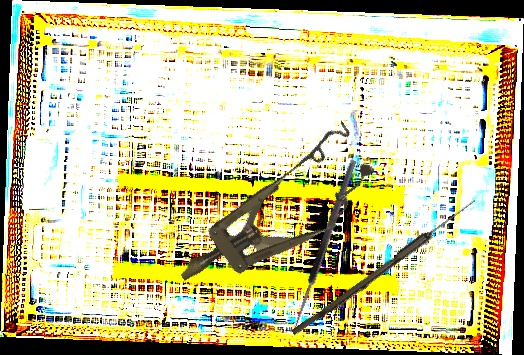Hook Surgical: (289, 158, 366, 338)
Speculum: (157, 118, 390, 314)
Surgical Spoon: (291, 195, 478, 340)
